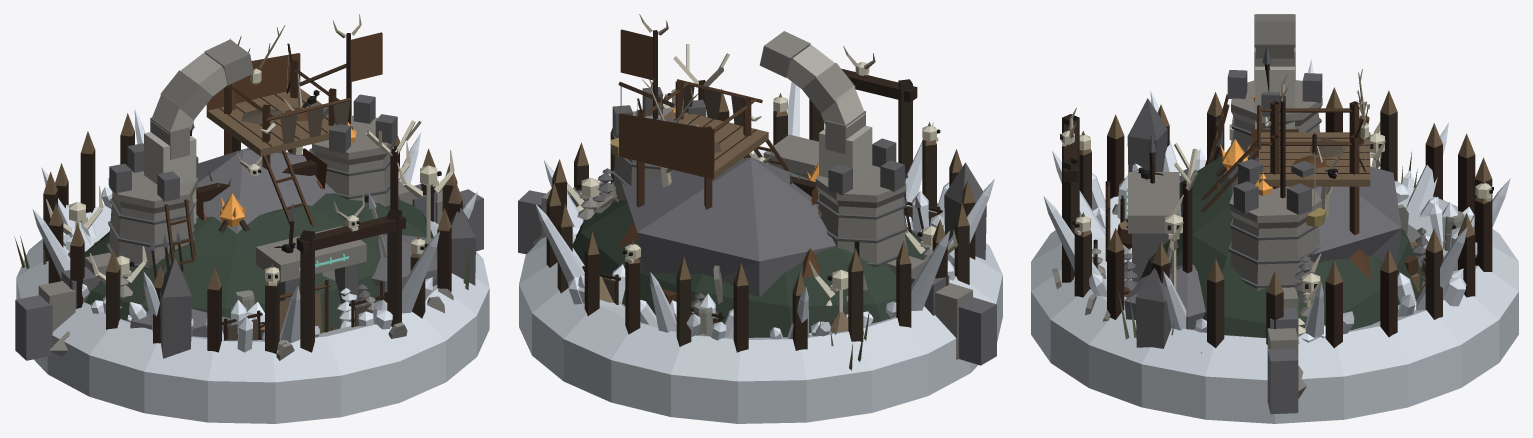
Rendered from lairs.glb.
The picture shows the model from 3 angles, left to right: view 1: azimuth 30°, elevation 25°; view 2: azimuth 150°, elevation 25°; view 3: azimuth 270°, elevation 25°; orthographic projection. The views are drawn at different scales.
Parts seen in each view (by area): view 1: lair@saltwights, lair@barrowkin, gatehold@gatehold, lair@spineHunters, lair@reavers, lair@drowned, lair close@reavers!fine, outskirts@spineHunters, lair close@spineHunters!fine, gatehold close@gatehold!fine, outskirts@saltwights, lair close@barrowkin!fine (+1 smaller); view 2: lair@saltwights, lair@spineHunters, gatehold@gatehold, lair@reavers, lair@barrowkin, lair@drowned, lair close@reavers!fine, outskirts@spineHunters, outskirts@saltwights, gatehold close@gatehold!fine, lair close@spineHunters!fine, outskirts@barrowkin (+1 smaller); view 3: lair@saltwights, lair@reavers, lair@barrowkin, gatehold@gatehold, lair@spineHunters, lair close@reavers!fine, lair@drowned, lair close@spineHunters!fine, outskirts@saltwights, outskirts@spineHunters, outskirts@barrowkin, gatehold close@gatehold!fine (+1 smaller).
Boxes of the visible parts, x1,y1,x2,y2 form: lair@saltwights: (16, 109, 489, 423); lair@barrowkin: (49, 167, 476, 358); gatehold@gatehold: (15, 94, 483, 360); lair@spineHunters: (130, 53, 437, 337); lair@reavers: (43, 113, 462, 354); lair@drowned: (14, 39, 469, 323); lair close@reavers!fine: (141, 194, 427, 352); outskirts@spineHunters: (46, 142, 454, 340); lair close@spineHunters!fine: (219, 25, 353, 335); gatehold close@gatehold!fine: (164, 14, 382, 265); outskirts@saltwights: (66, 187, 402, 352); lair close@barrowkin!fine: (260, 73, 444, 360); lair@saltwights: (519, 82, 1002, 423); lair@spineHunters: (619, 81, 954, 297); gatehold@gatehold: (518, 87, 996, 365); lair@reavers: (546, 44, 975, 352); lair@barrowkin: (533, 134, 986, 337); lair@drowned: (759, 31, 872, 370); lair close@reavers!fine: (623, 46, 940, 318); outskirts@spineHunters: (567, 79, 957, 325); outskirts@saltwights: (568, 182, 954, 340); gatehold close@gatehold!fine: (620, 14, 906, 257); lair close@spineHunters!fine: (610, 78, 907, 198); outskirts@barrowkin: (577, 168, 932, 335); lair@saltwights: (1031, 59, 1518, 423); lair@reavers: (1074, 87, 1492, 348); lair@barrowkin: (1127, 98, 1423, 398); gatehold@gatehold: (1147, 70, 1322, 414); lair@spineHunters: (1124, 46, 1401, 329); lair close@reavers!fine: (1060, 108, 1493, 291); lair@drowned: (1118, 14, 1417, 339); lair close@spineHunters!fine: (1105, 69, 1369, 261); outskirts@saltwights: (1061, 173, 1473, 343); outskirts@spineHunters: (1093, 121, 1456, 336); outskirts@barrowkin: (1092, 143, 1451, 317); gatehold close@gatehold!fine: (1207, 74, 1287, 198).
Bounding box in the file's own units: 13.82 × 8.21 × 12.27.
